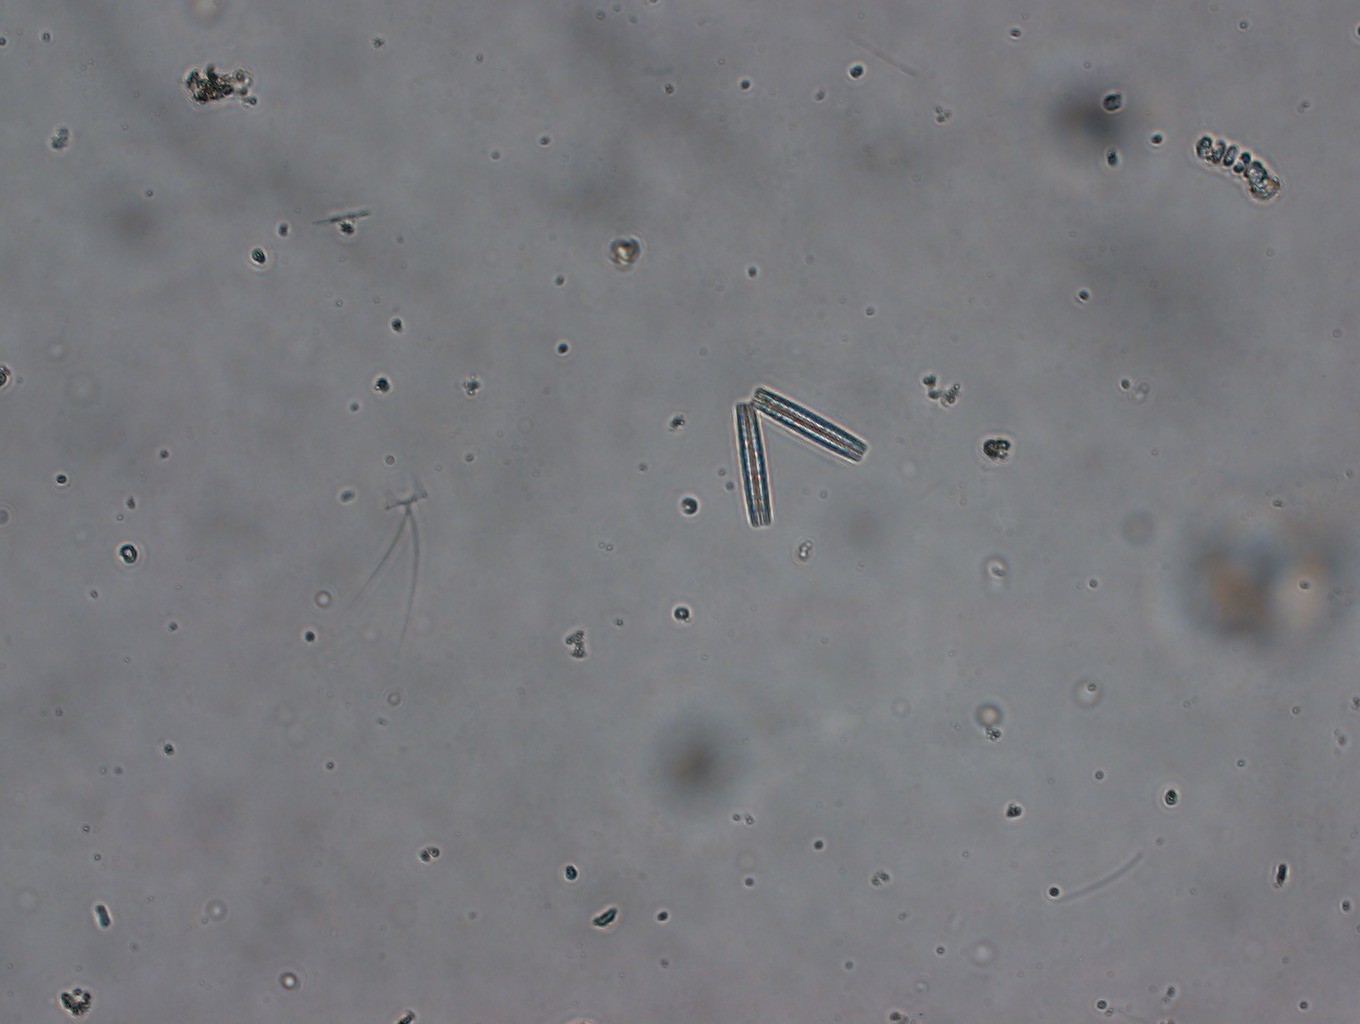skeletonema: (1190, 131, 1286, 207)
thalassionema nitzschioides: (735, 385, 868, 530)
